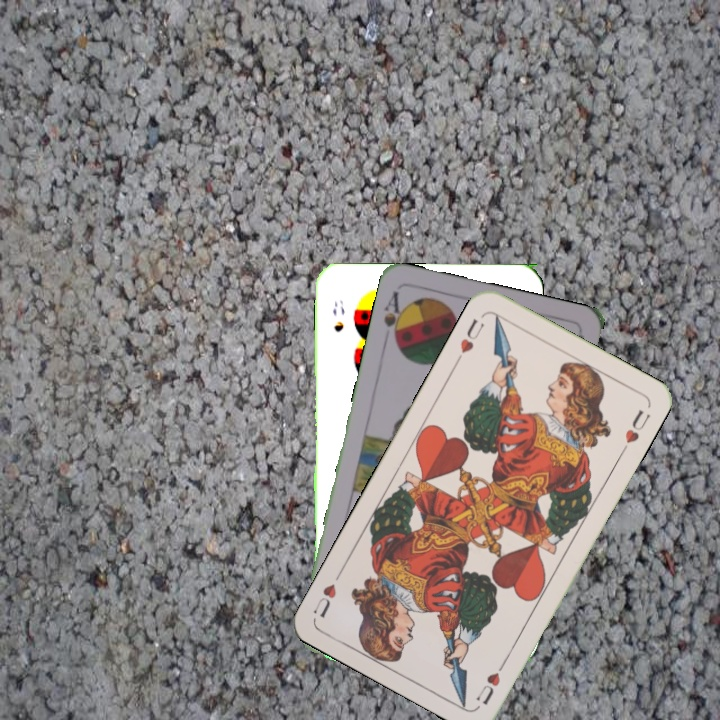HU: (472, 655, 510, 707), (456, 315, 487, 356)
S8: (328, 296, 347, 334)
SA: (379, 287, 409, 348)
